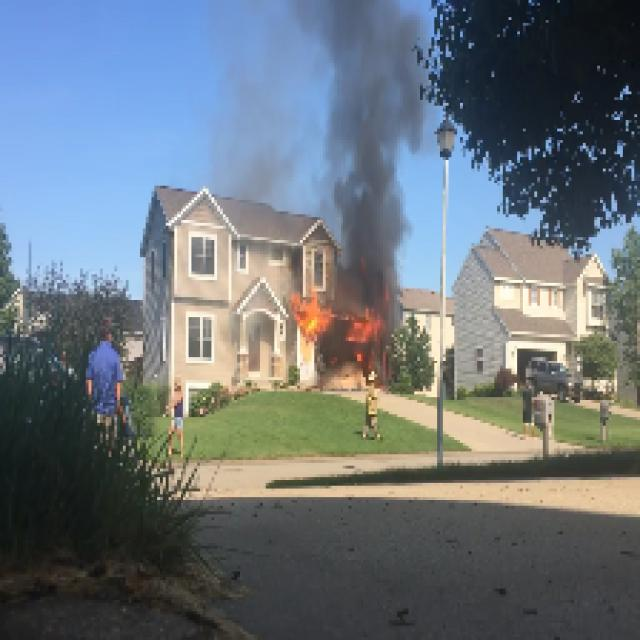smoke: (337, 0, 401, 290)
